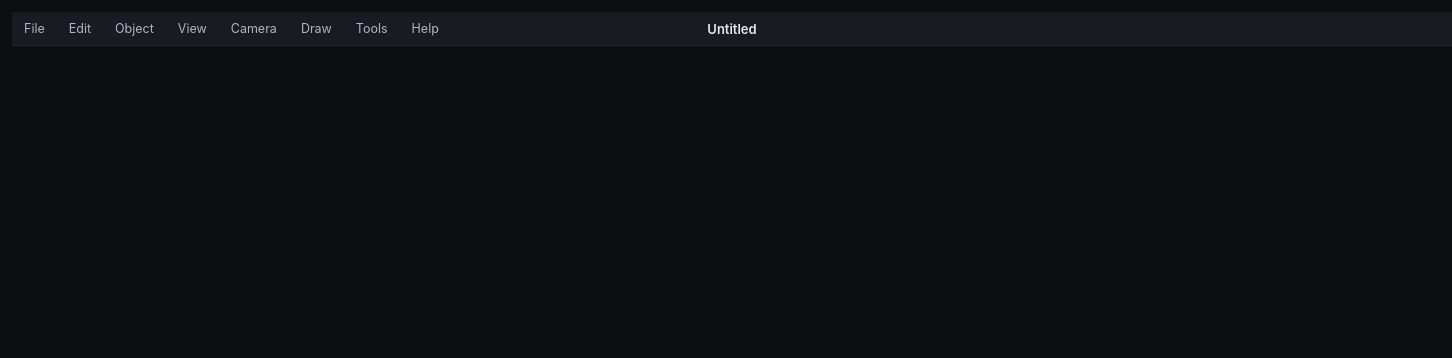
Test: MenuBar › offers no standalone Field of View entry in the Camera menu (camera-playtest2.md §2 — removed, not hidden)
Click the button "Camera": (254,28) [219,12,289,45]
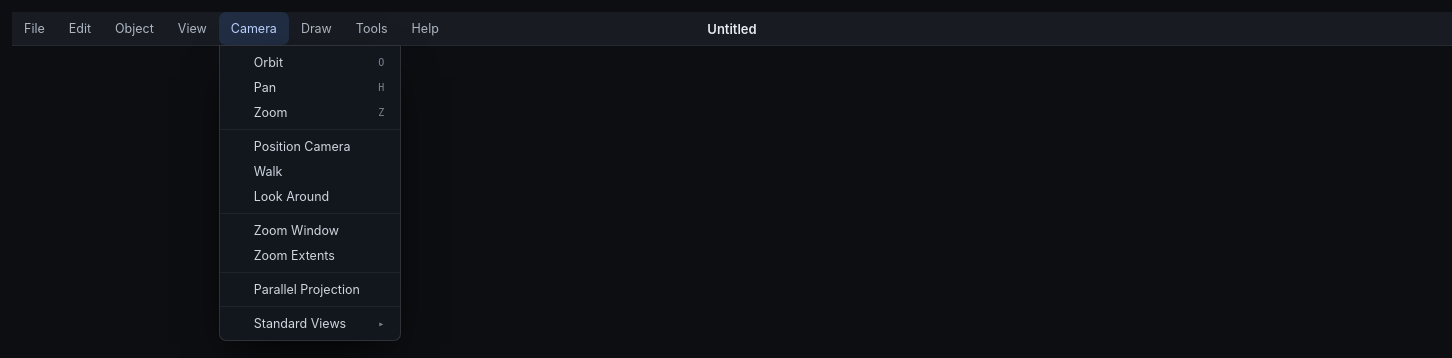
Expected: the text "Zoom Window" is shown, [254,223,339,238]
